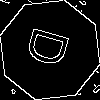D: (25, 25, 79, 72)
